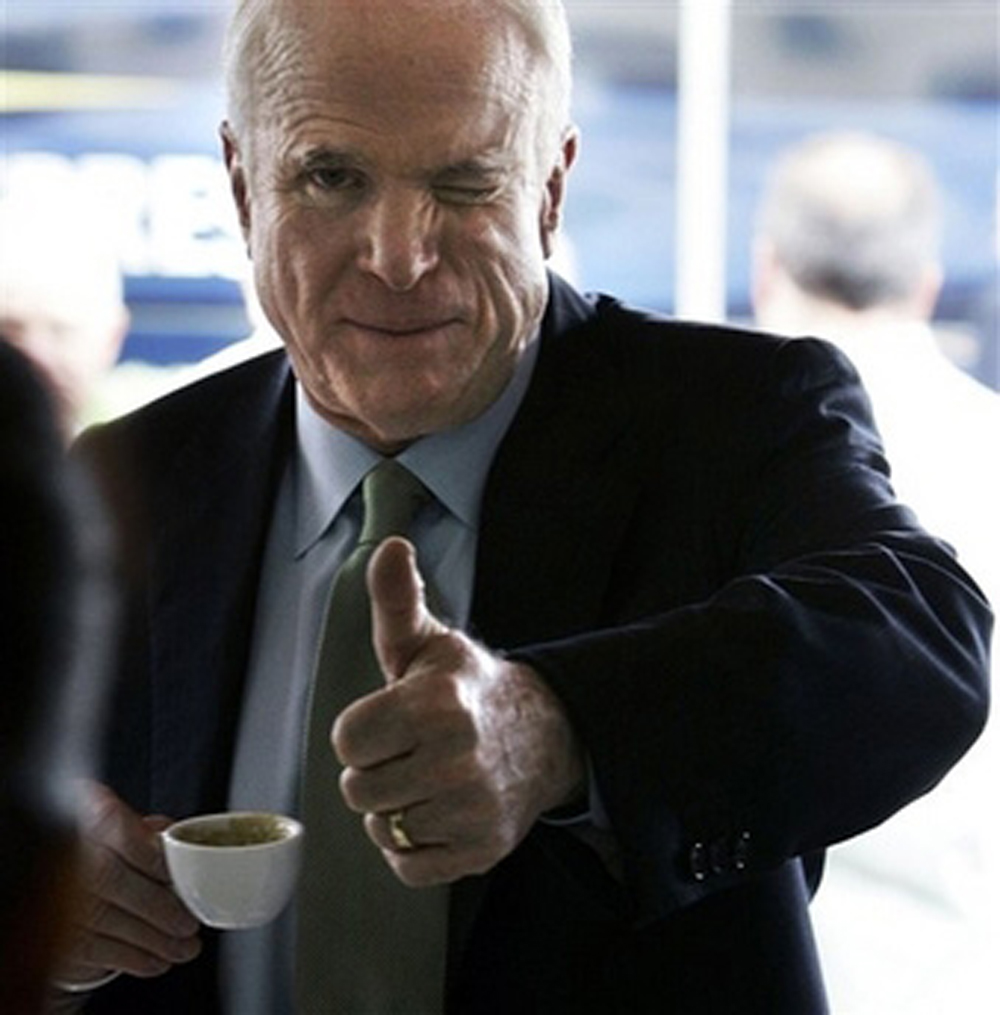ThumbsUp: (330, 535, 545, 898)
